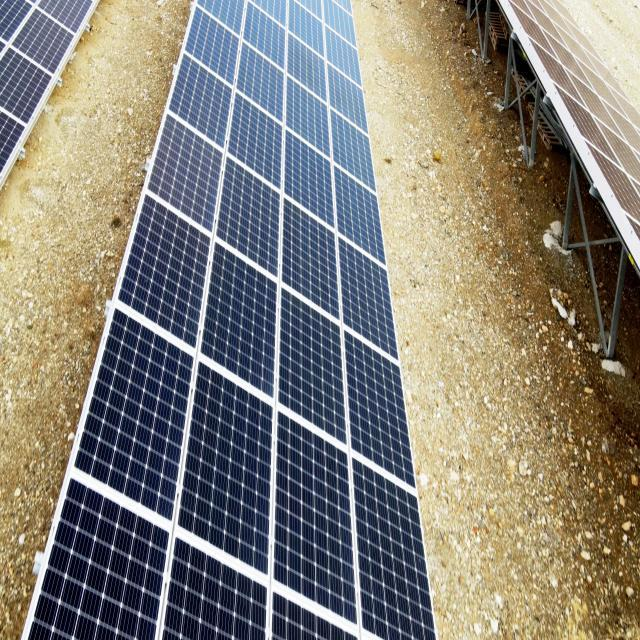no faulty: (33, 4, 439, 640)
